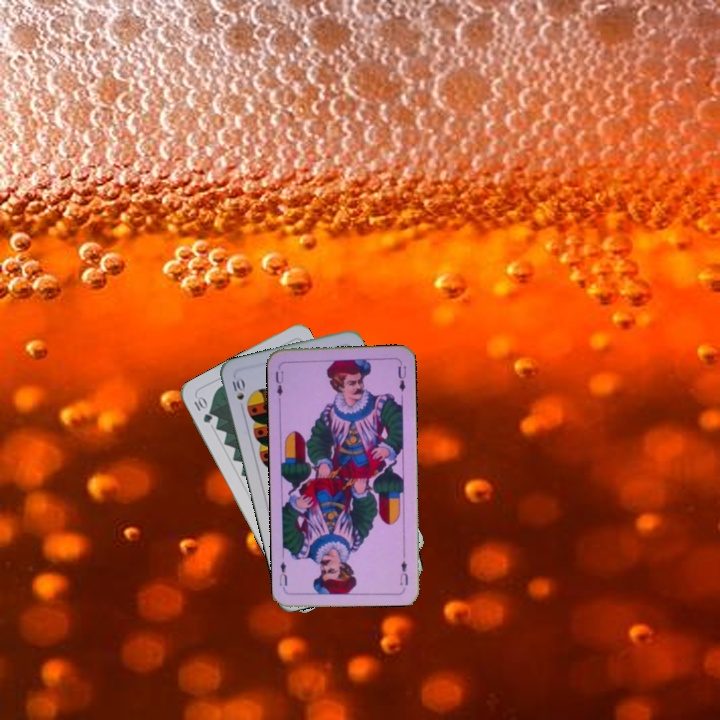EU: (396, 549, 411, 588), (271, 367, 286, 403)
G10: (190, 393, 215, 426)
S10: (226, 373, 247, 413)
